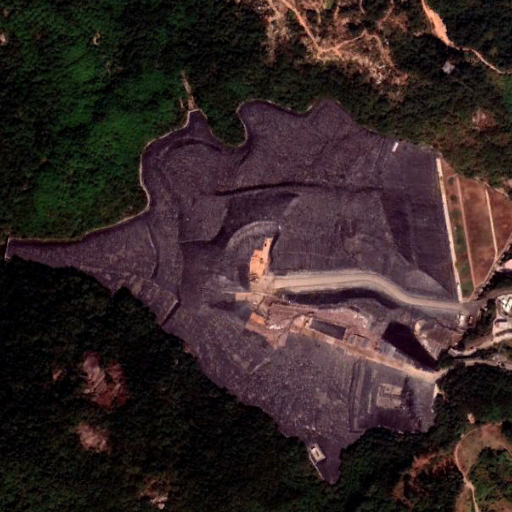lf: (12, 97, 449, 481)
